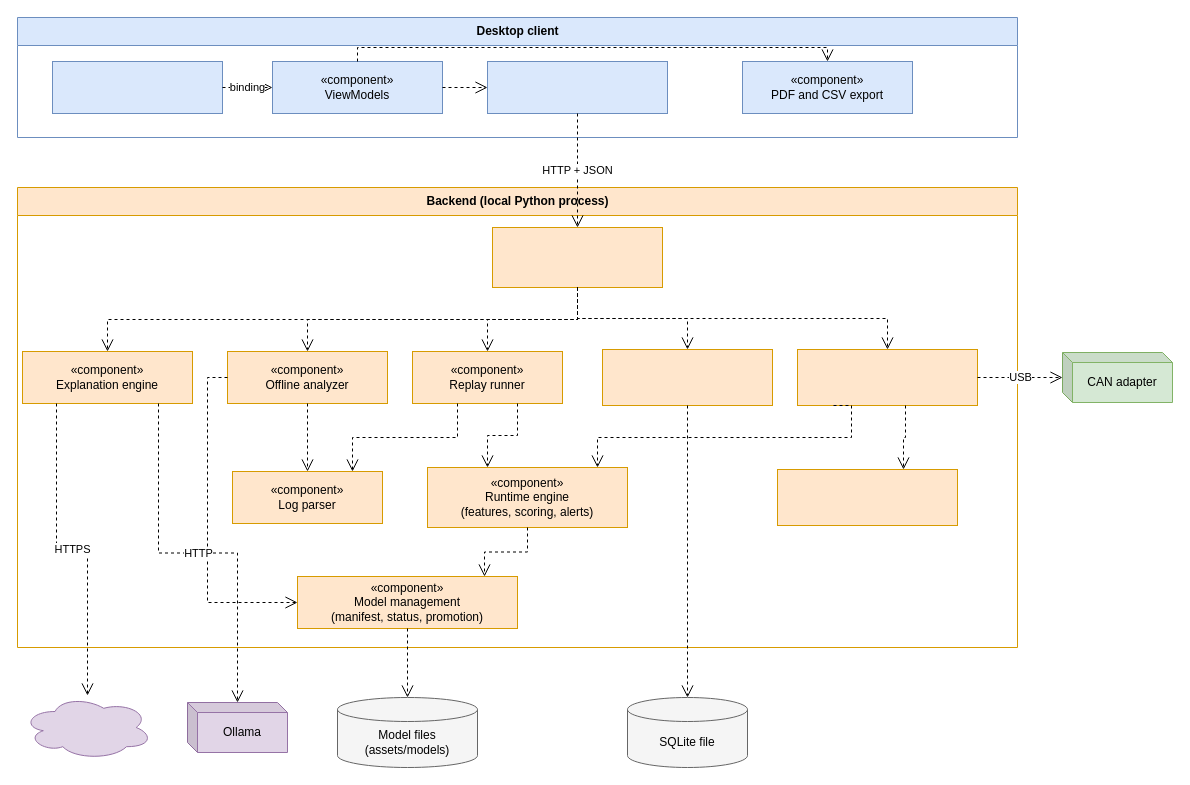
Some shapes in this 1190 by 785 pixel diagram are drawn without their labels. The centre of each missing label's shape, as x and y in pixels:
Gemini API: (87,727)
«component» Client services: (577,87)
«component» Decoding (DBC, signal discovery): (867,497)
«component» Hardware interface (python-can): (887,377)
«component» Persistence (SQLite store): (687,377)
«component» REST API (FastAPI): (577,257)
«component» Views (XAML): (137,87)
